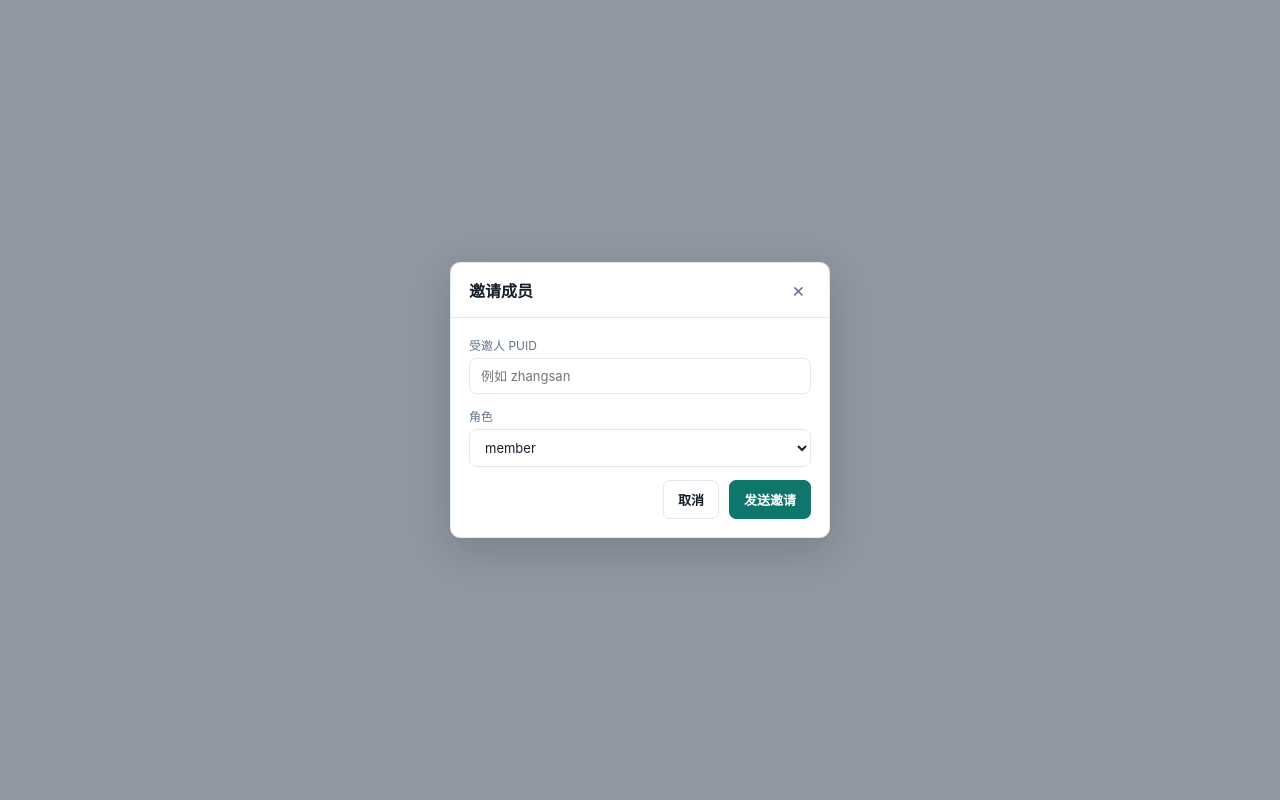
InviteMemberModal › surfaces an API error in the form
In the field with test id "invitee-puid": (640, 376) [469, 358, 811, 394], type "lisi"
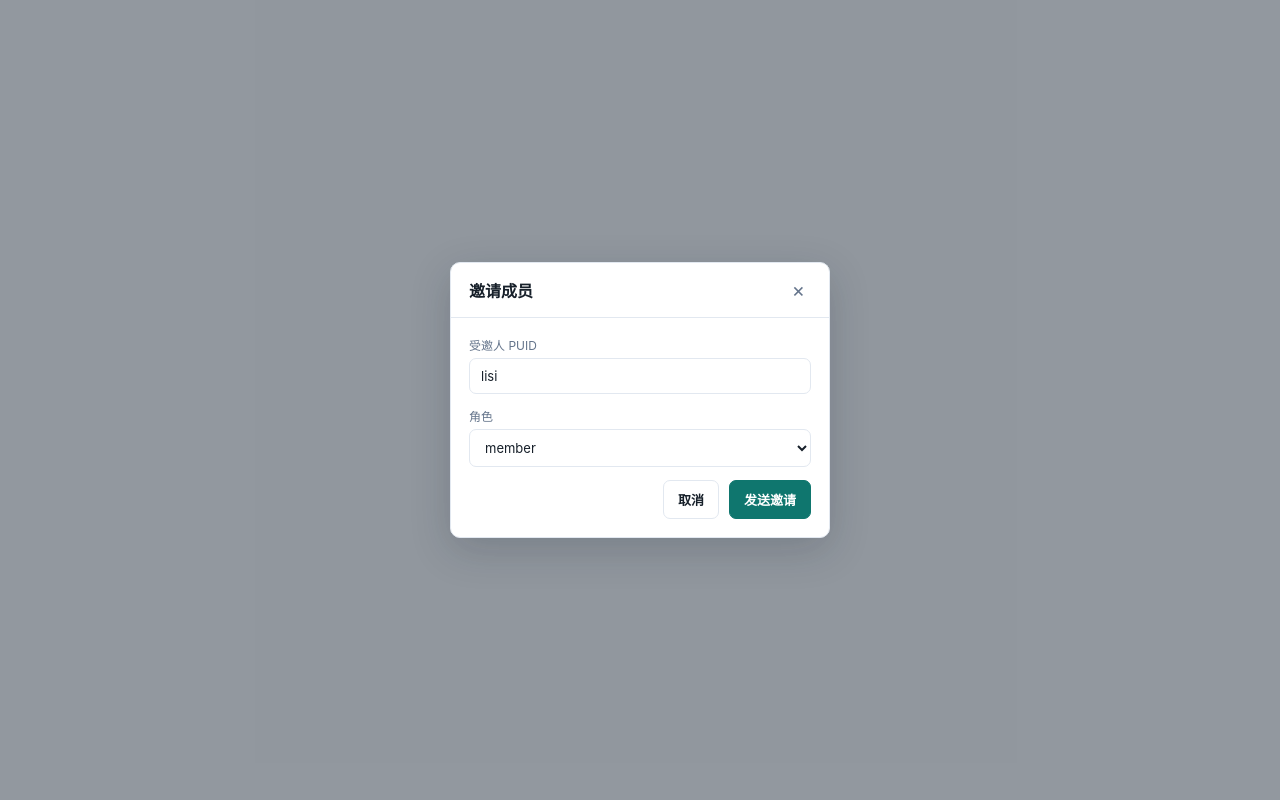
Submit the form, box [451, 318, 829, 537]
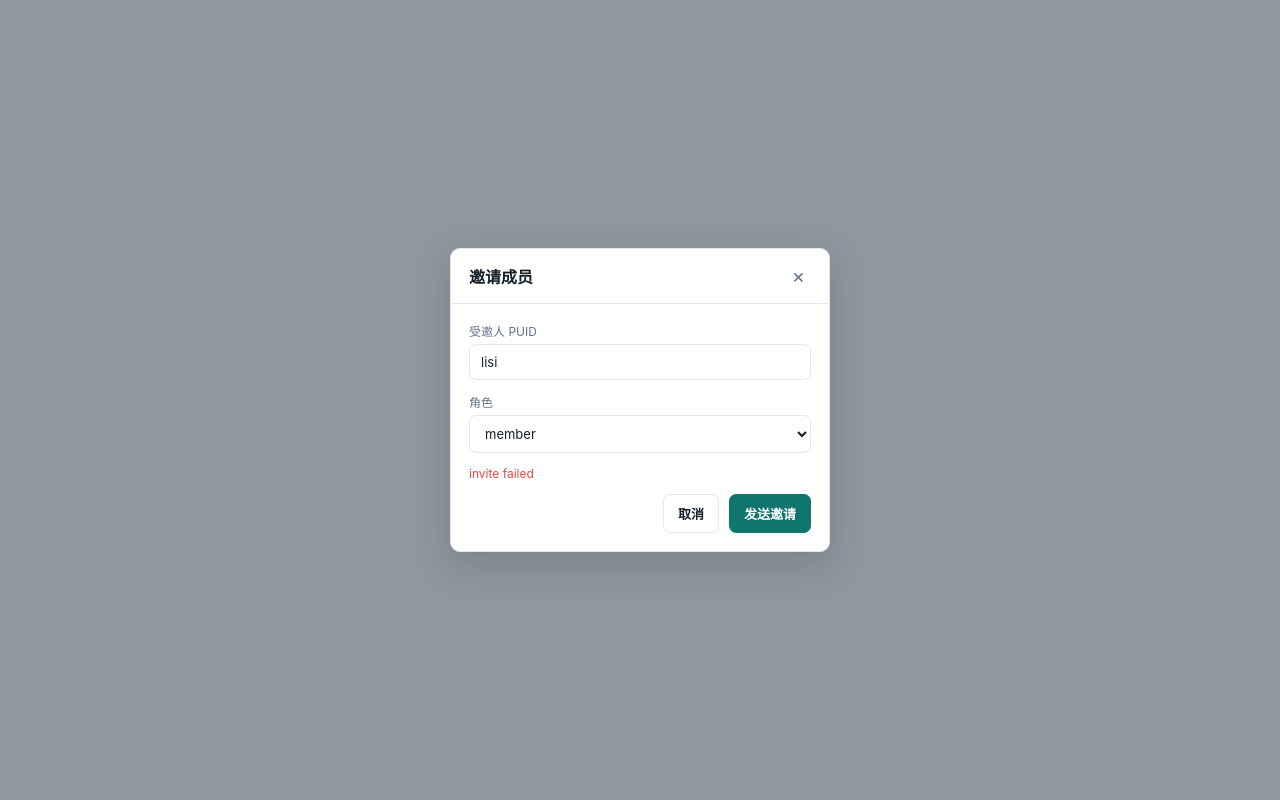
Check: the text with test id "invite-error" reads "invite failed", box [469, 466, 534, 481]
